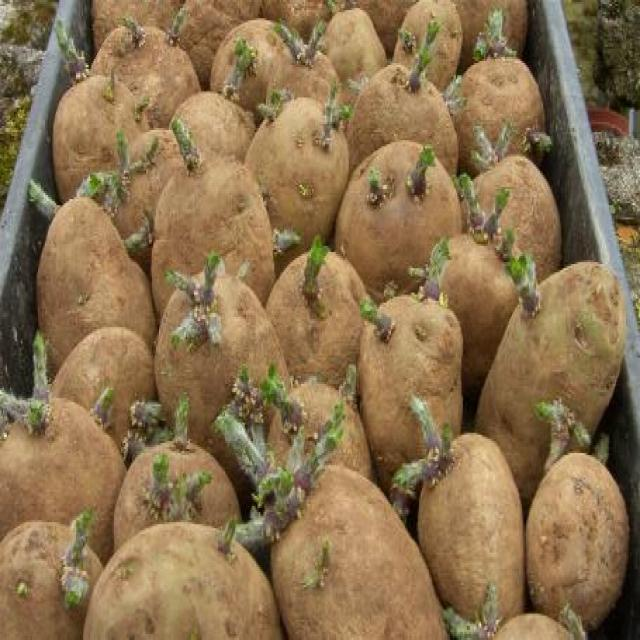potato: (476, 260, 624, 460), (273, 457, 432, 640), (526, 446, 632, 628), (146, 148, 271, 296), (429, 431, 522, 617), (155, 274, 273, 418), (36, 194, 154, 336), (333, 140, 459, 269), (255, 94, 347, 229)
